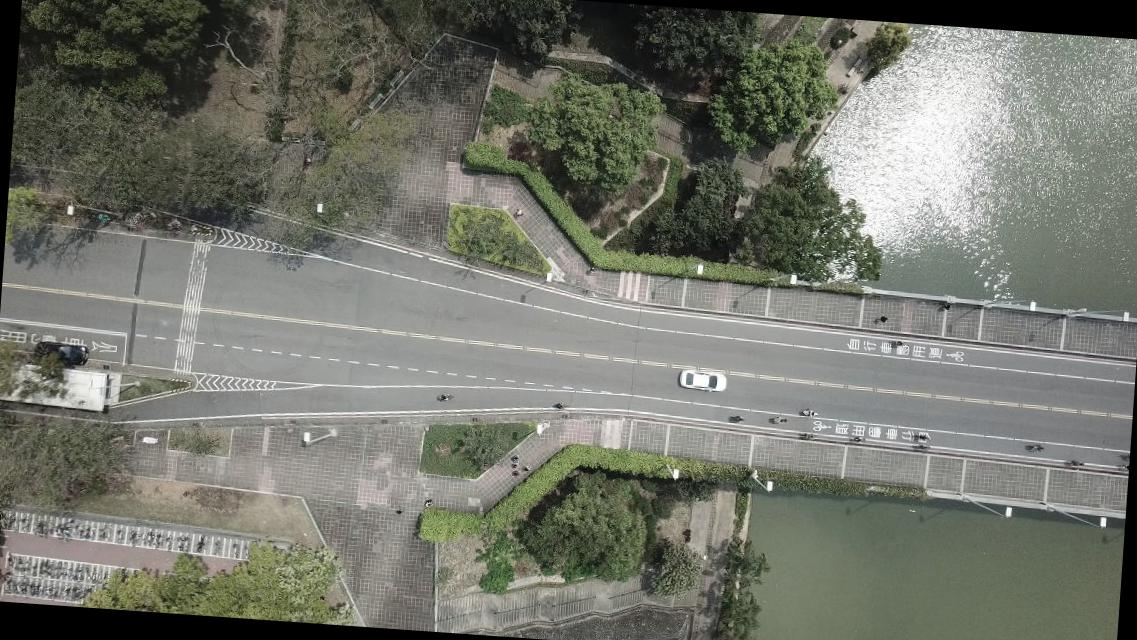vehicle: (31, 340, 87, 366), (676, 368, 726, 393)
